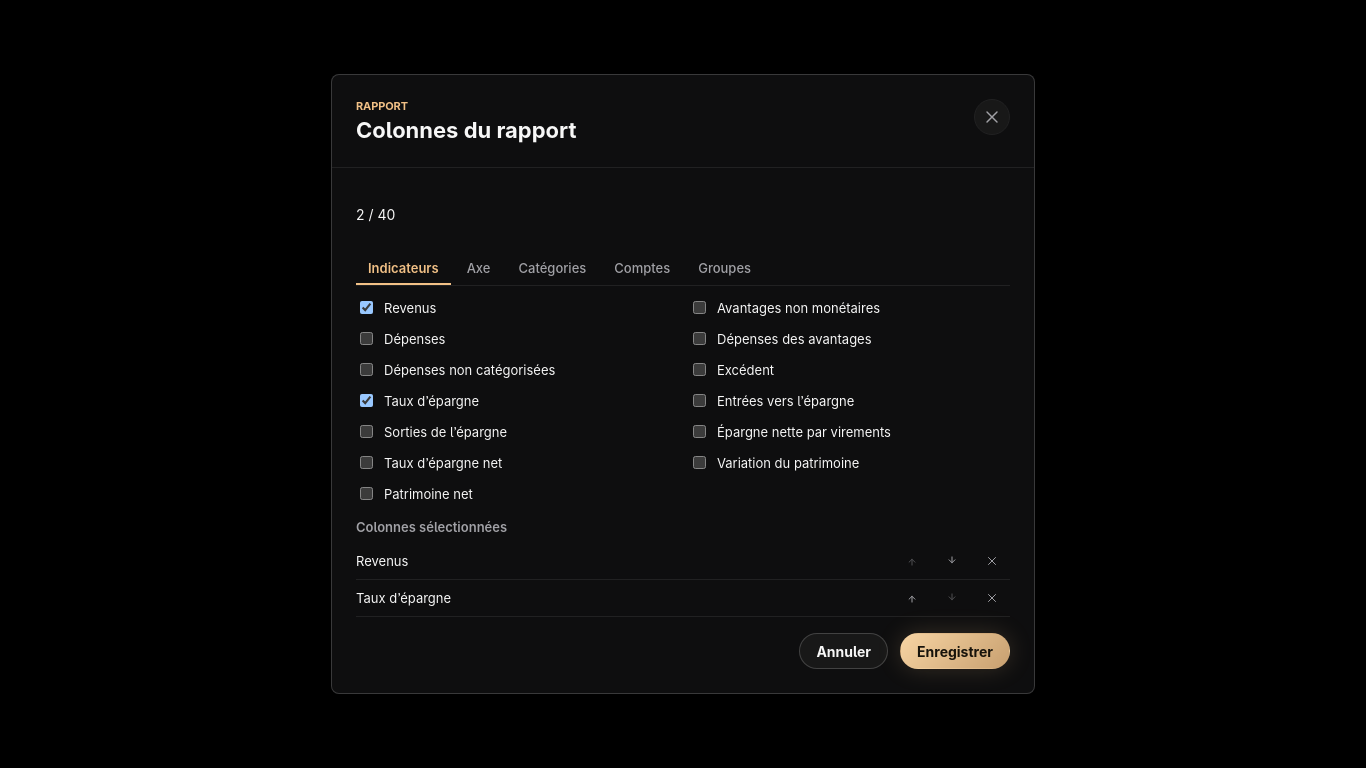
ColumnPickerModal › labels each group with its full path, in saved depth-first order
The image size is (1366, 768).
Click the tab "Groupes": (725, 269) [686, 253, 763, 285]
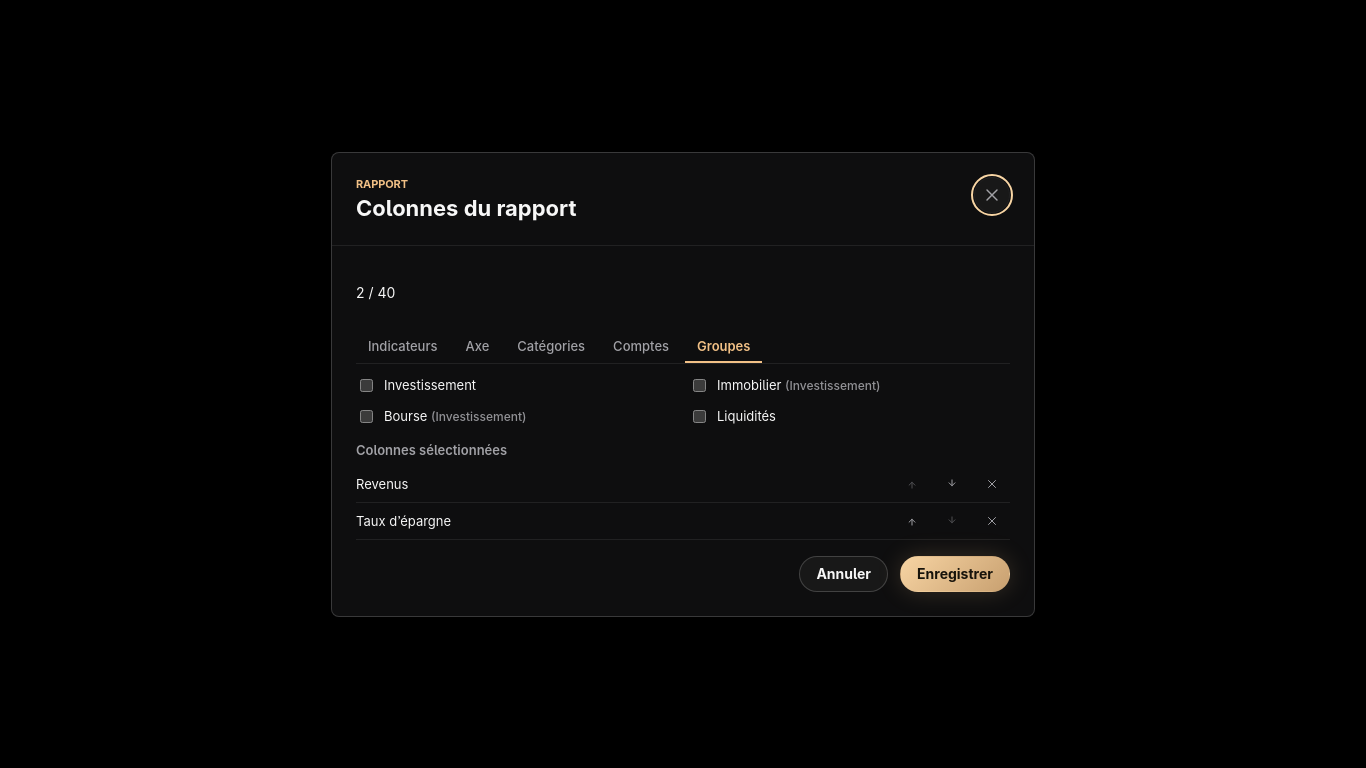
Expected: the label named "Investissement › Bourse" reads "Bourse (Investissement)", [360, 408, 526, 424]
Expected: the label labelled "Liquidités" is shown, [693, 408, 776, 424]
